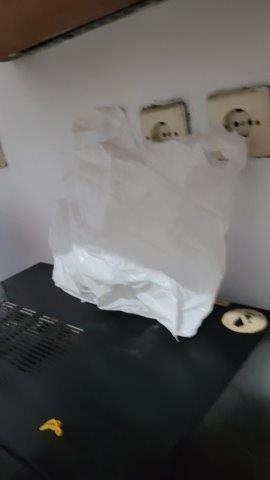plastik: (50, 105, 245, 334)
